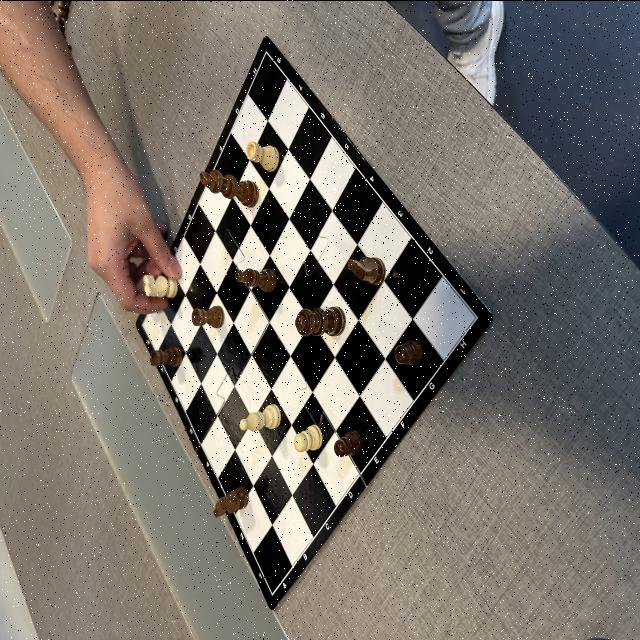Black-Bishop: (235, 268, 277, 292)
Black-King: (200, 168, 258, 206)
Black-Knight: (213, 484, 249, 516), (348, 256, 385, 284)
Black-Pawn: (396, 338, 422, 366), (335, 429, 361, 456)
Black-Queen: (295, 306, 345, 336)
Black-Rook: (192, 306, 224, 326), (150, 346, 181, 365)
White-Bishop: (240, 404, 280, 431)
White-Knight: (144, 274, 178, 296)
White-Pawn: (294, 424, 322, 451)
White-Rook: (246, 140, 278, 170)
